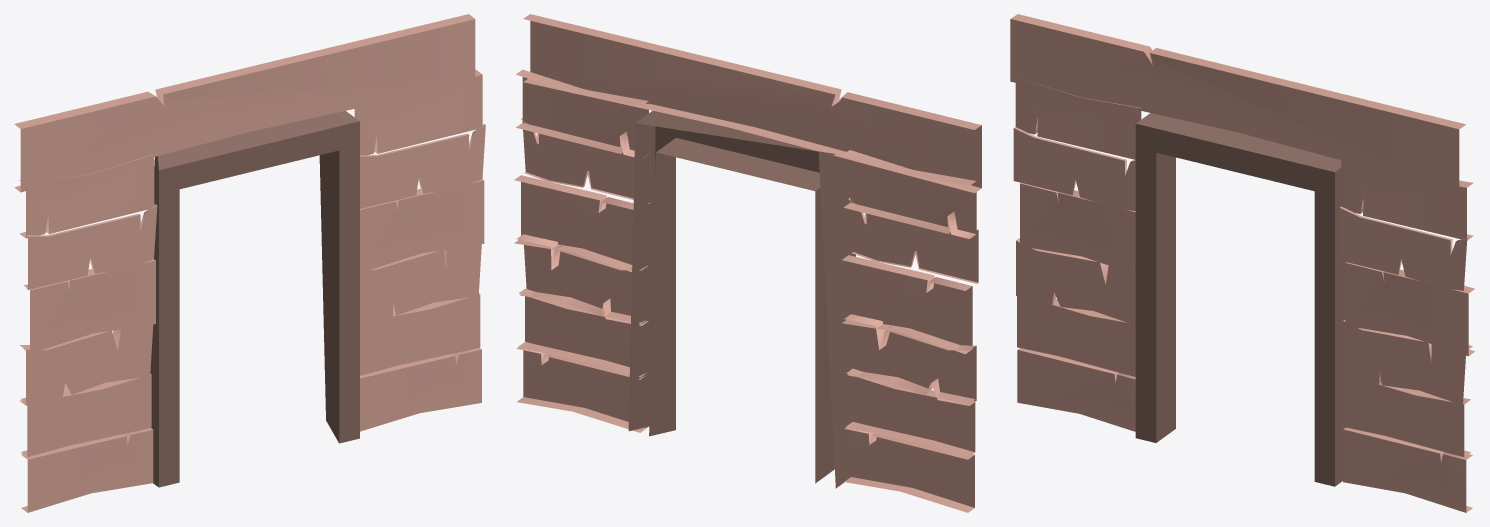
The model's file is Building_032.glb.
The picture shows the model from 3 angles, left to right: view 1: azimuth 30°, elevation 25°; view 2: azimuth 150°, elevation 25°; view 3: azimuth 330°, elevation 25°; orthographic projection.
Parts seen in each view (by area): view 1: Building_032; view 2: Building_032; view 3: Building_032.
Boxes of the visible parts, box(x1,y1,x2,y2) form: Building_032: box(14, 14, 485, 512); Building_032: box(514, 14, 981, 512); Building_032: box(1010, 14, 1474, 512).
Size of the model in its own units: 6 by 4.79 by 0.4508.
1 material, 1 textured.
